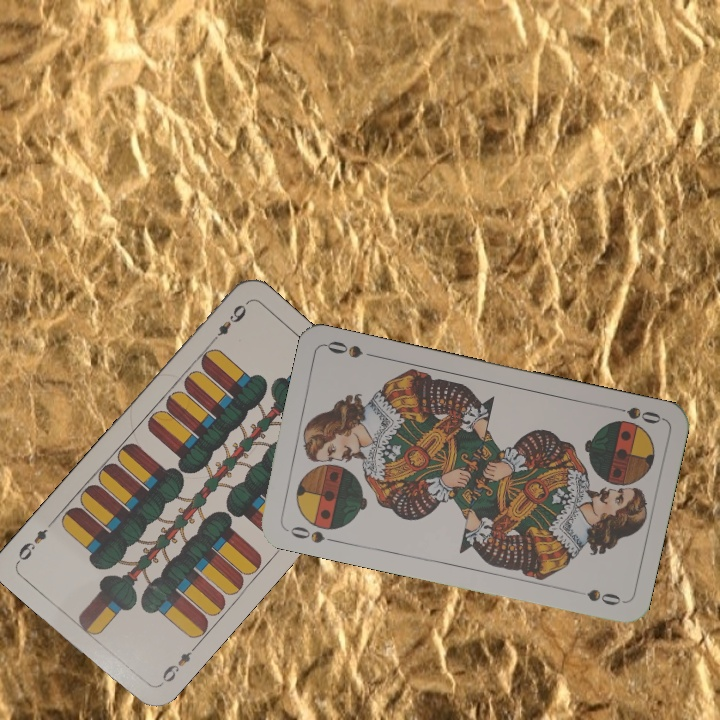E9: (155, 641, 200, 689), (206, 300, 249, 346)
SO: (606, 401, 665, 427), (282, 522, 340, 546)
